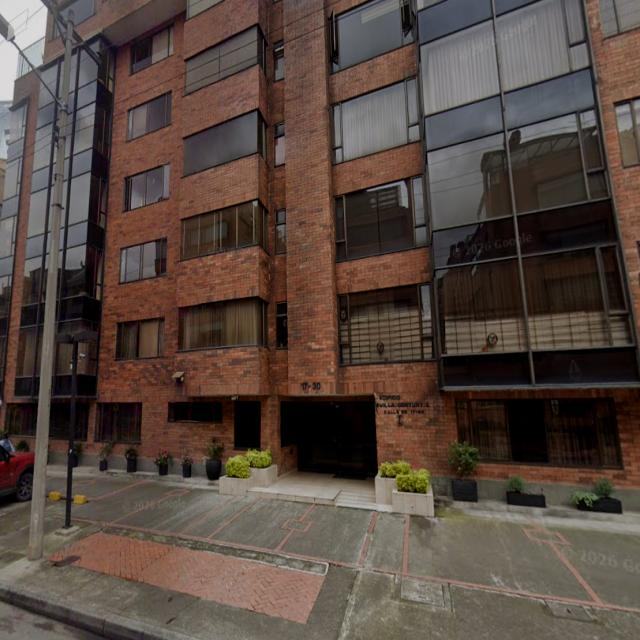fachada: (57, 0, 639, 504)
poste: (28, 10, 73, 560), (65, 338, 78, 528)
